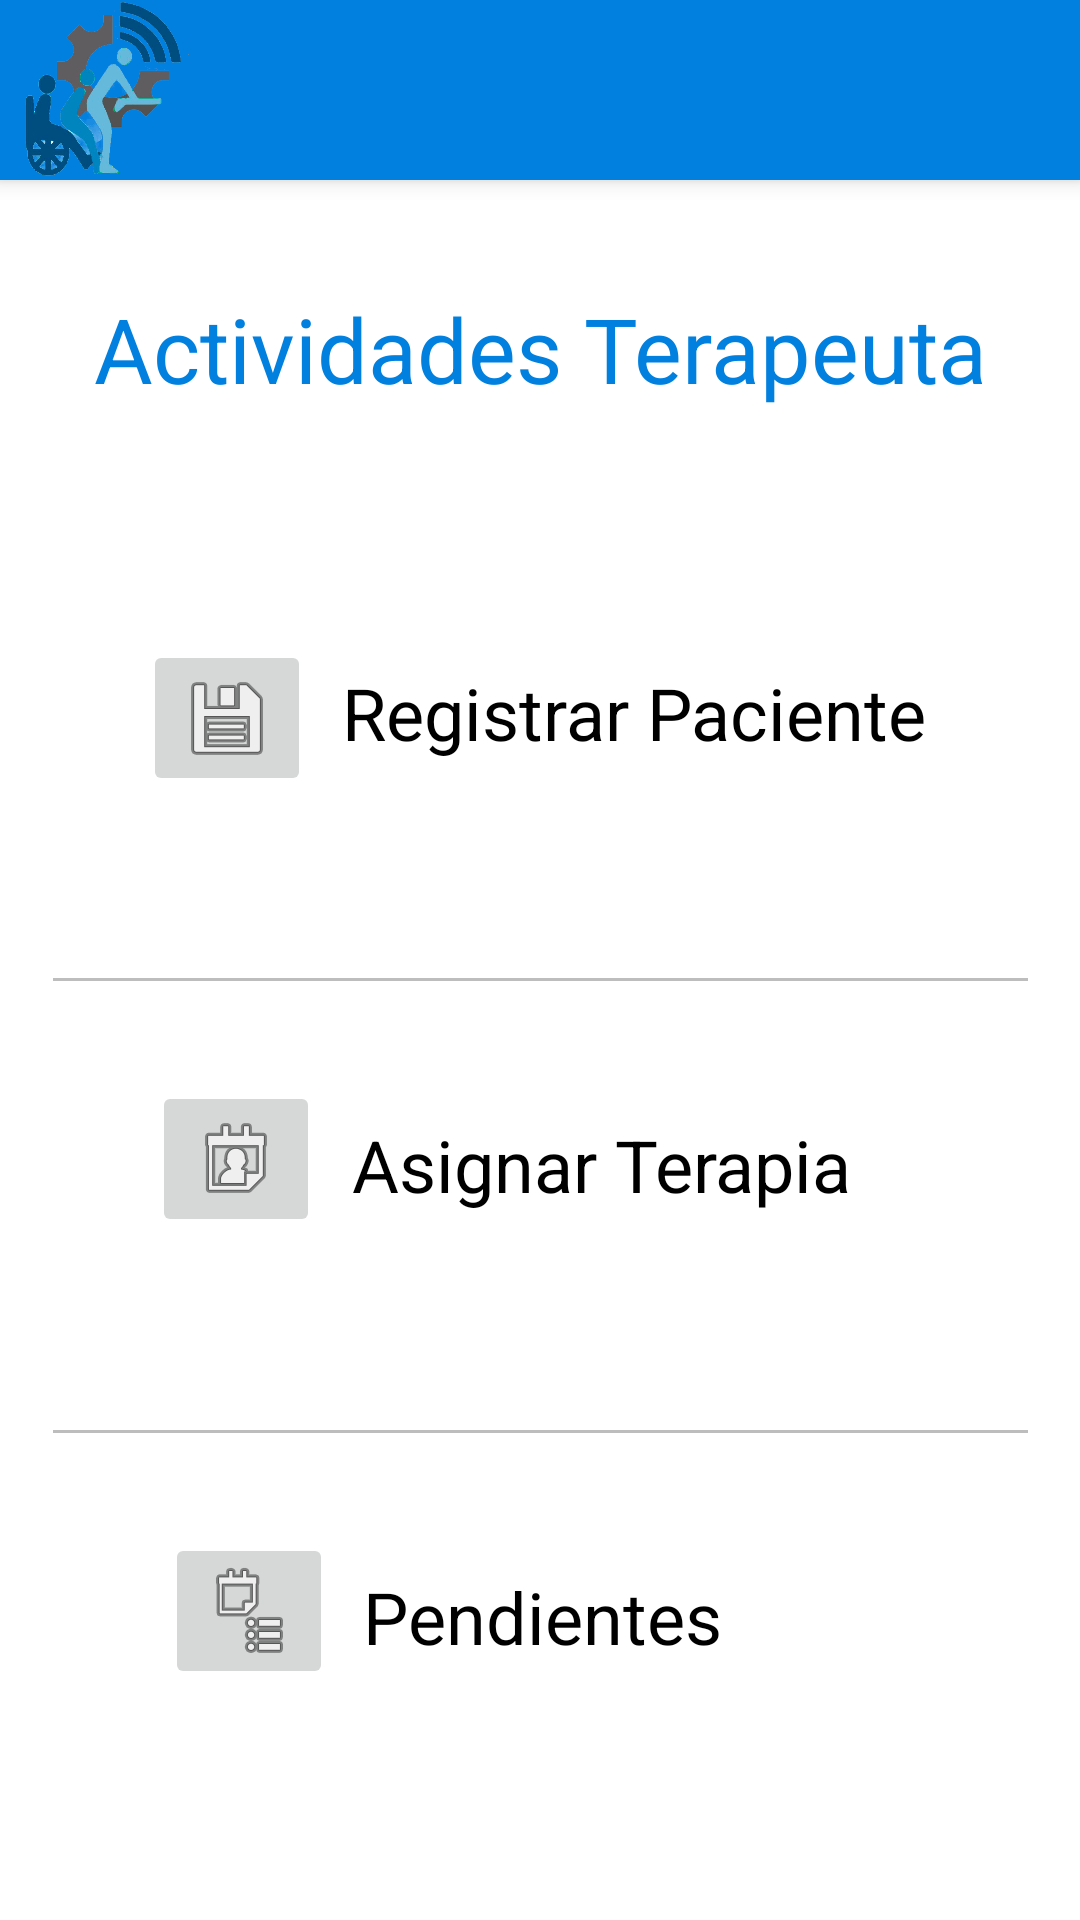

Icons on this 1080 × 1920 Android screen, each with its box as (x1, y1, x2, y2):
agenda: (177, 1551, 321, 1671)
calendar: (164, 1099, 308, 1219)
save: (155, 658, 299, 778)
